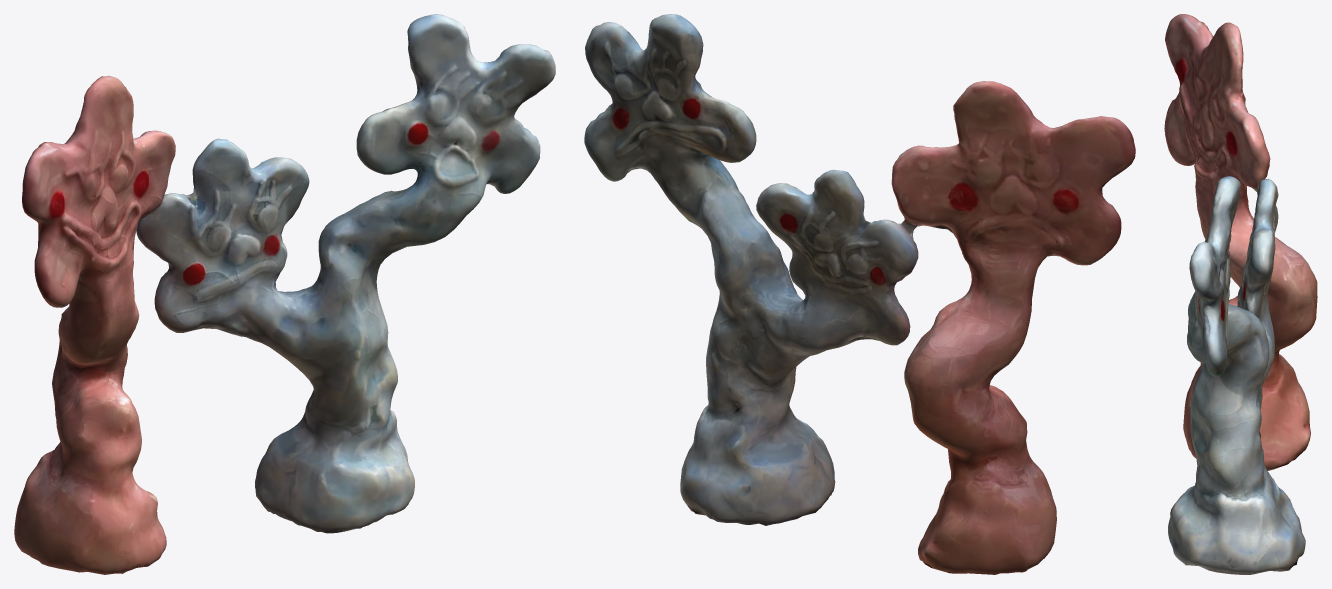
The model's file is flores-y-una-flor.glb.
3 renders of one model, left to right at view 1: azimuth 30°, elevation 25°; view 2: azimuth 150°, elevation 25°; view 3: azimuth 270°, elevation 25°, orthographic. The views are drawn at different scales.
Parts seen in each view (by area): view 1: submesh; view 2: submesh; view 3: submesh.
Boxes of the visible parts, x1,y1,x2,y2 form: submesh: (14,14,555,574); submesh: (584,14,1135,574); submesh: (1164,14,1317,574).
Bounding box in the file's own units: 0.1999 × 0.1692 × 0.0549.
Materials: 1 (1 with a texture image).
